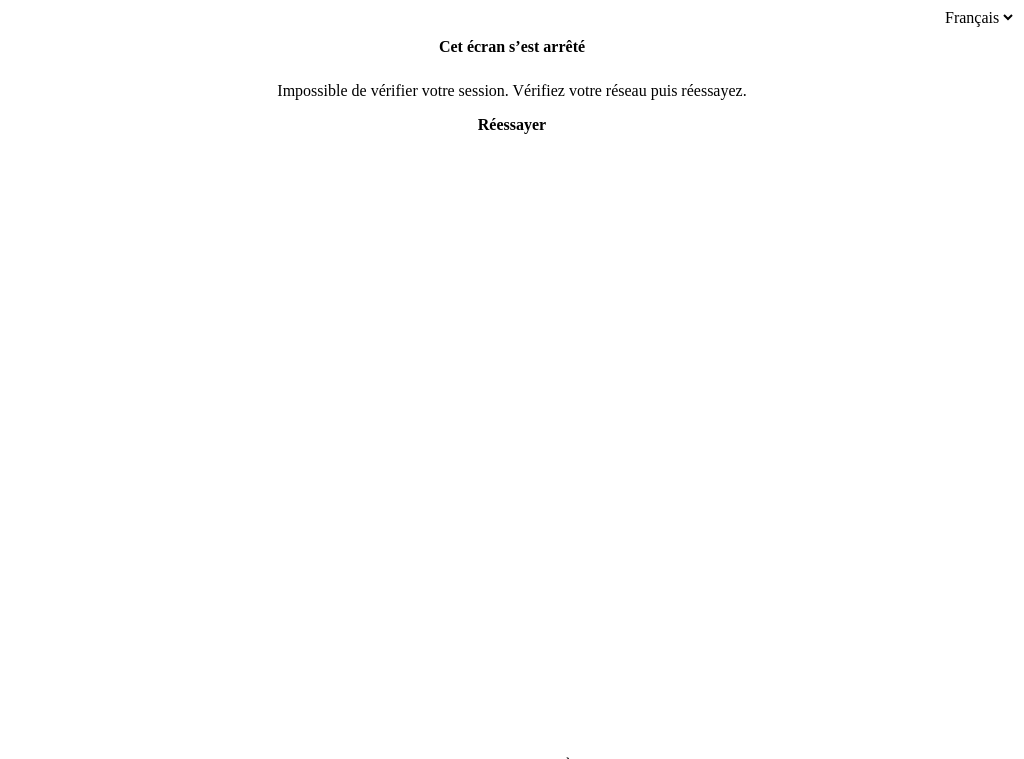
Scenario: what is asked once › asks again, once, when the host presses retry after a failure to ask
This screenshot has width=1024, height=759.
Step 1. Click the button "Réessayer" → (512, 125), box [477,116,547,134]
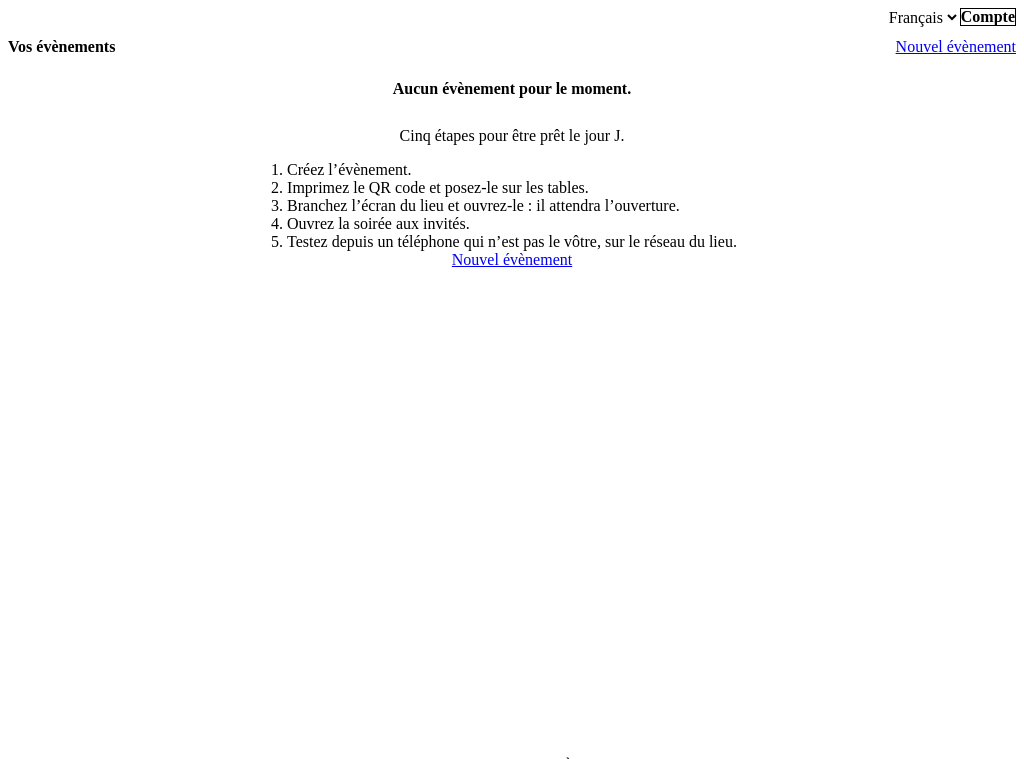
Now the heading "Vos évènements" is shown, box [8,38,115,56]
